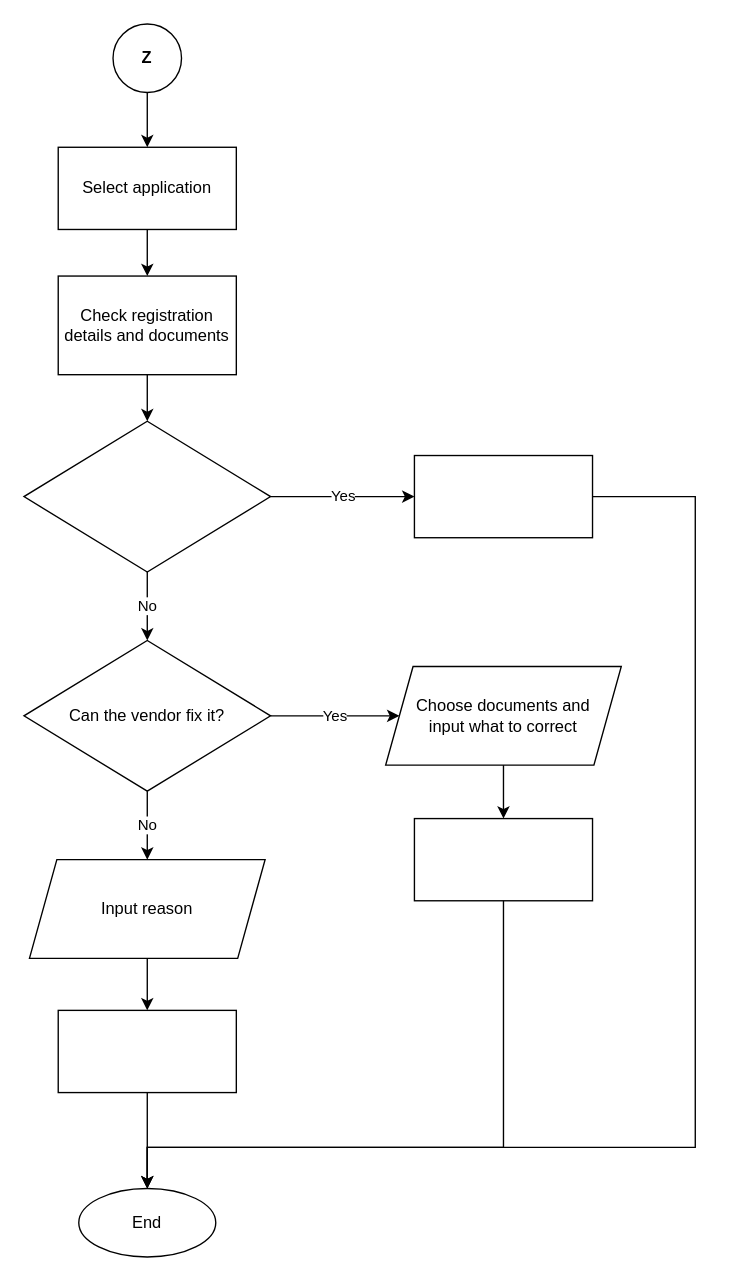
Some shapes in this 730 by 1281 pixel diagram are drawn without their labels. Each missing label, with the centre of its shape:
Approve vendor: the point at 503,496
Are the details and documents valid?: the point at 147,496
Ask for corrections: the point at 503,859
Reject application: the point at 146,1051
